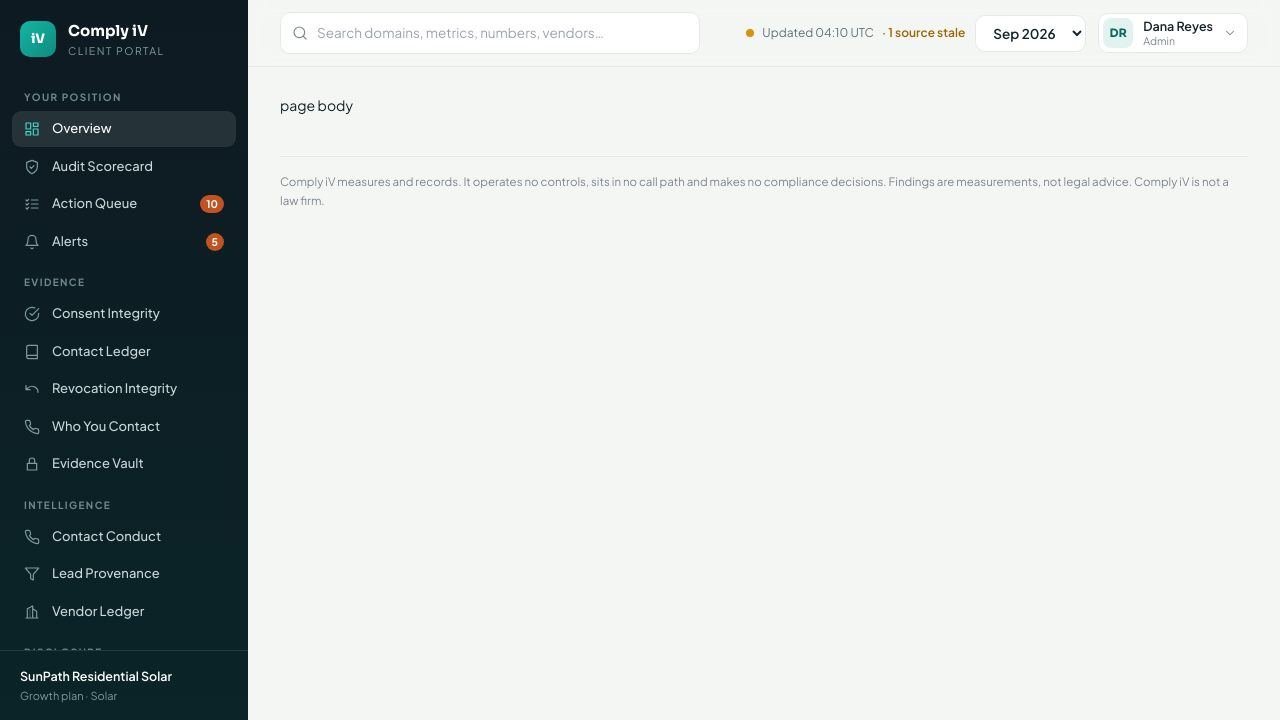
Test: view switch › switches from owner to underwriter and goes to the portfolio
Click the button with aria-label "Account menu": click(1173, 33) [1098,13,1248,53]
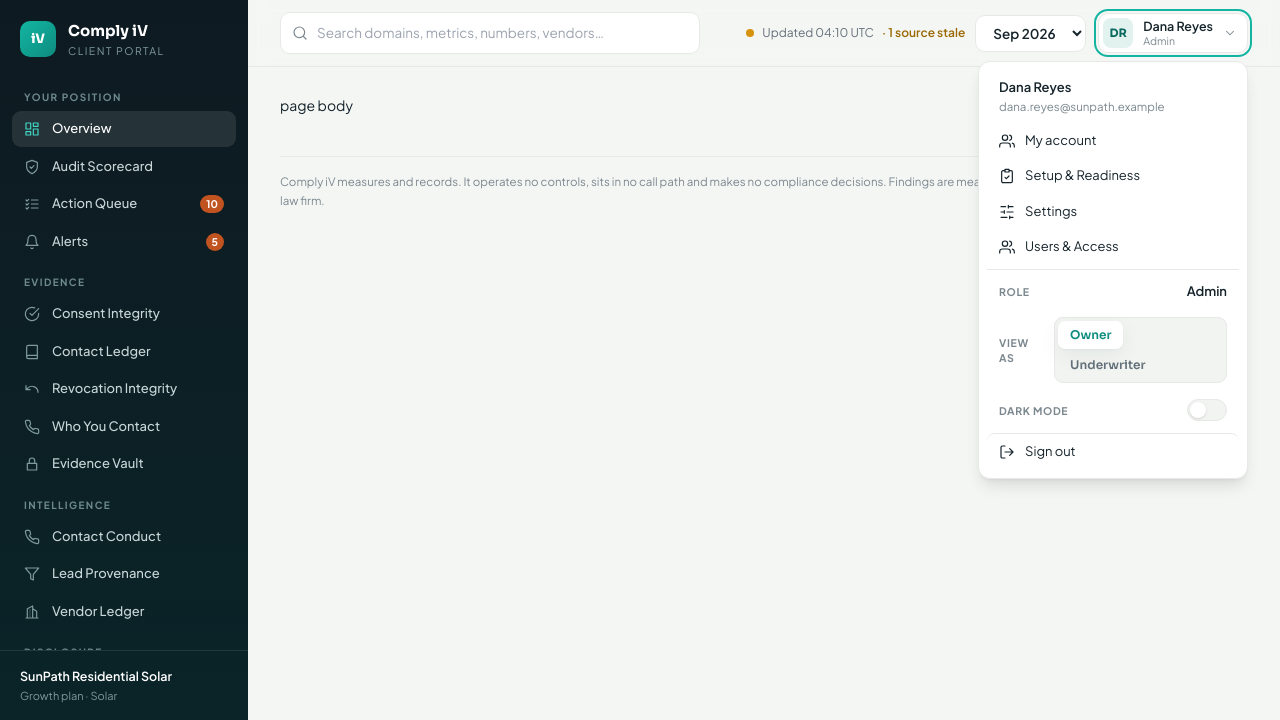
Click the button "Underwriter": click(1108, 365) [1058,351,1158,379]
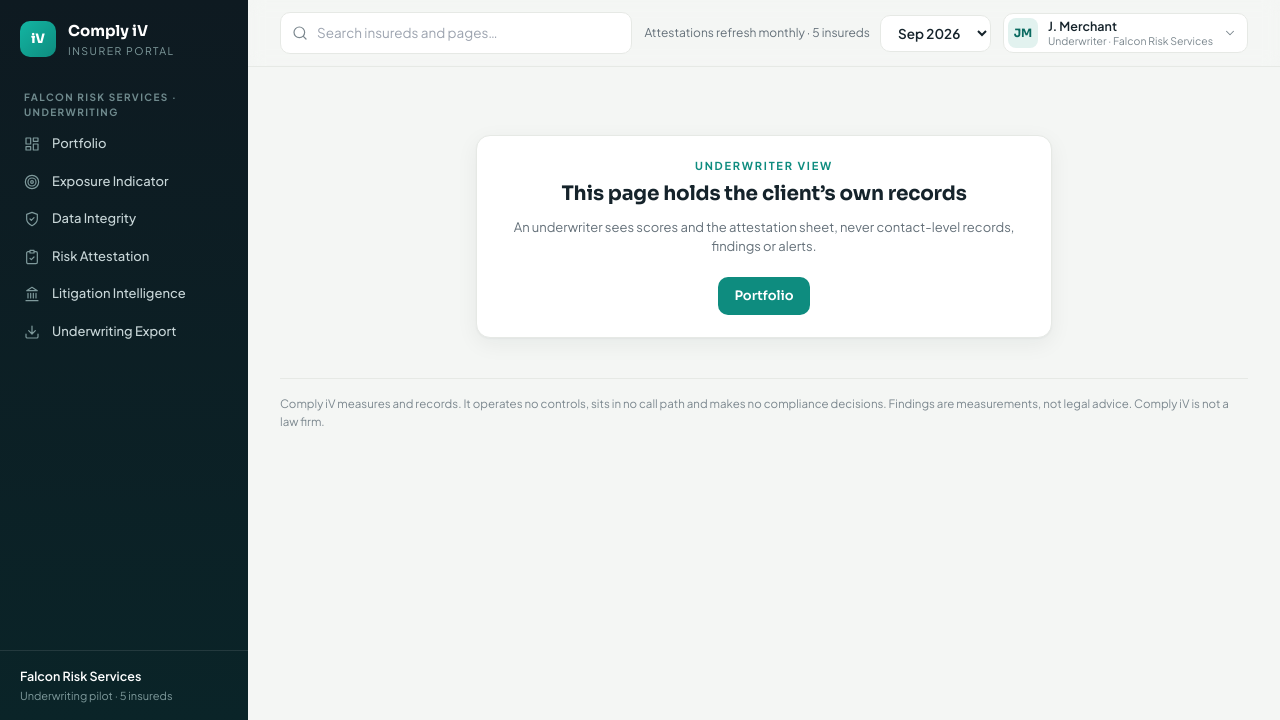
Now the text "Falcon Risk Services · underwriting" is shown, box [24,91,177,118]
Now the text "J. Merchant" is shown, box [1048,18,1117,34]
